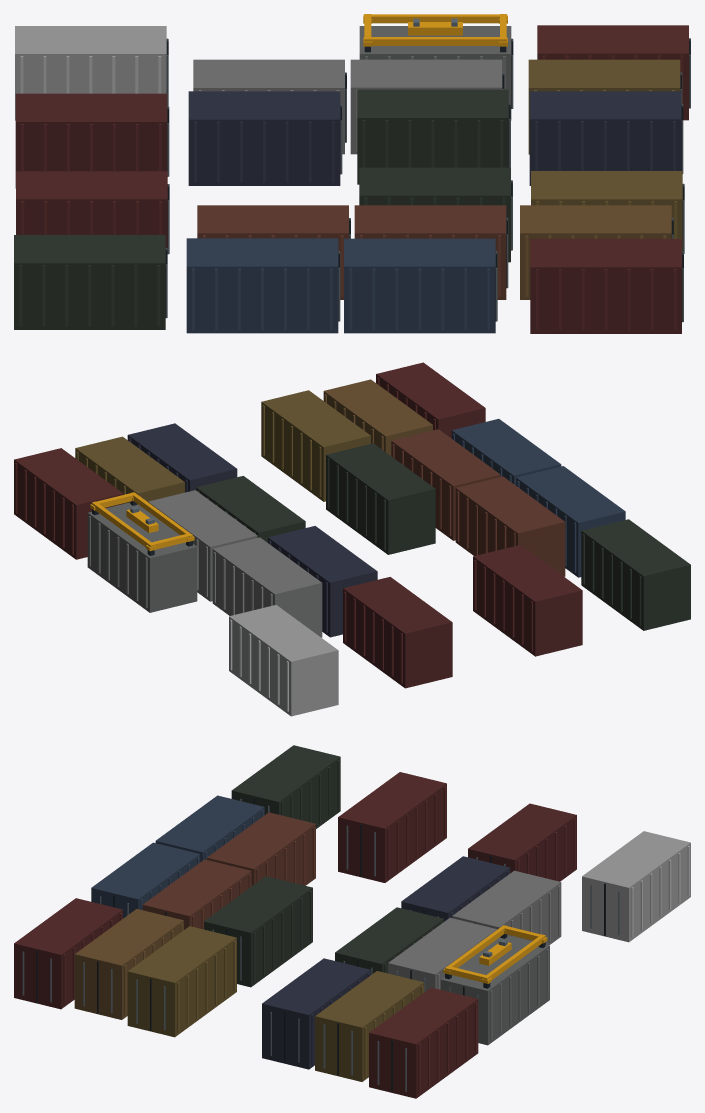
Rendered from SeaportSystem-01-Container-01-20Footer-3-05.glb.
3 renders of one model, top to bottom at view 1: azimuth 30°, elevation 25°; view 2: azimuth 150°, elevation 25°; view 3: azimuth 270°, elevation 25°, orthographic. The views are drawn at different scales.
Parts seen in each view (by area): view 1: SeaportSystem-01-Container-01-20Footer-3-05; view 2: SeaportSystem-01-Container-01-20Footer-3-05; view 3: SeaportSystem-01-Container-01-20Footer-3-05.
Part boxes in pixels (x1,y1,x2,y2): SeaportSystem-01-Container-01-20Footer-3-05: (14, 14, 690, 333); SeaportSystem-01-Container-01-20Footer-3-05: (14, 362, 690, 716); SeaportSystem-01-Container-01-20Footer-3-05: (14, 745, 690, 1098).
Bounding box in the file's own units: 75.38 × 8.25 × 72.09.
